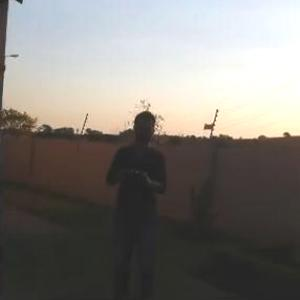follow: (102, 111, 173, 299)
